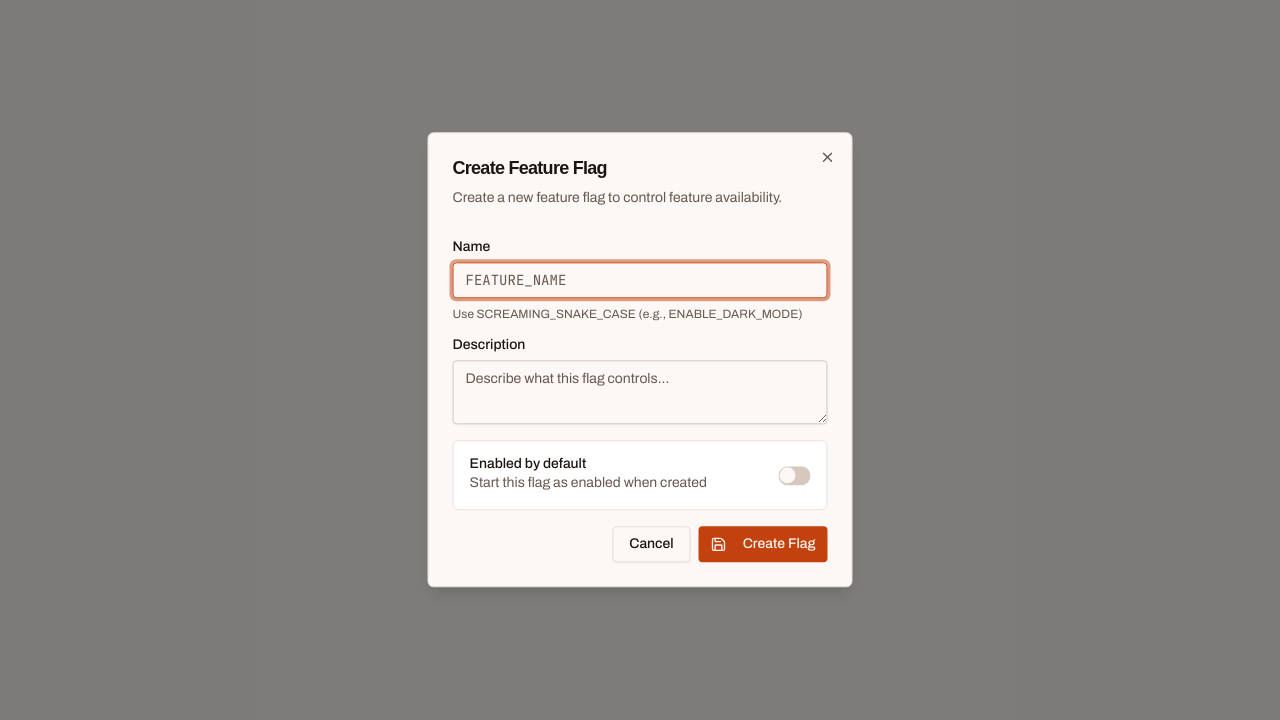
Test: components/admin/feature-flag-form › form submission - create mode › should display error message on creation failure
Type "DUPLICATE_FLAG" into the field labelled "Name". click: (640, 281)
box: top-left (452, 263), bottom-right (828, 299)
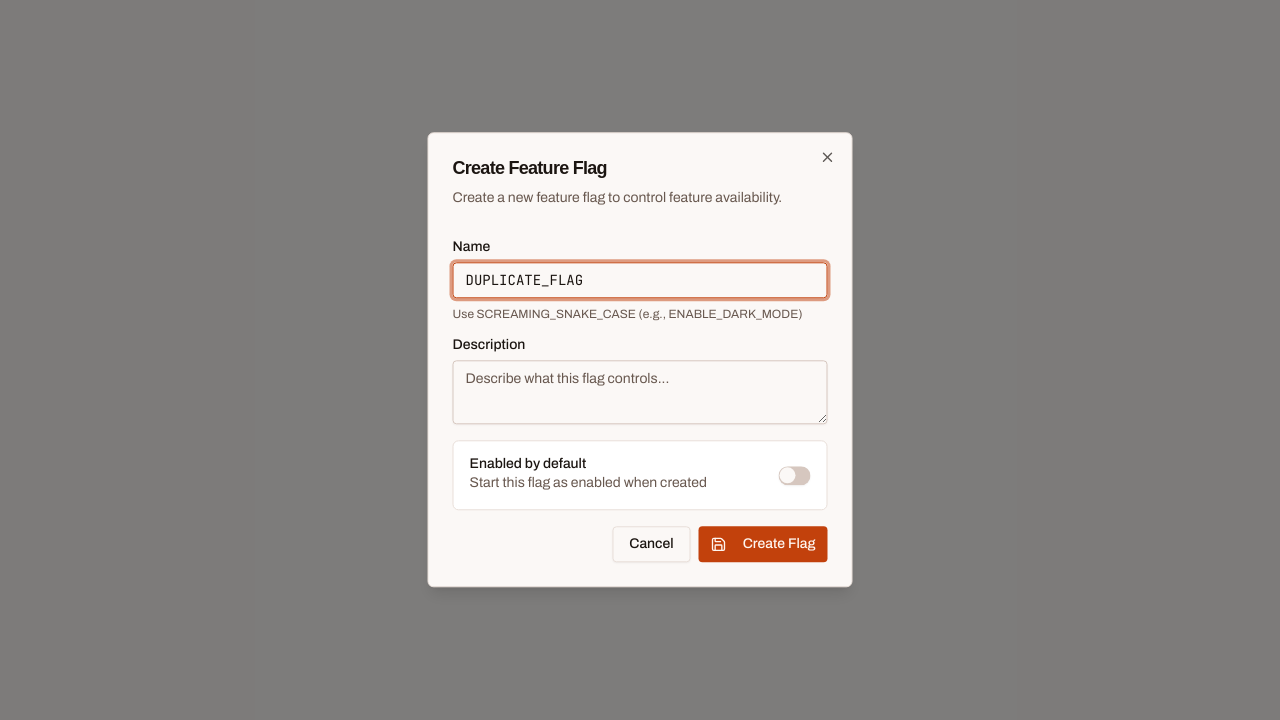
Click the button "Create Flag". click: (763, 545)
box: top-left (699, 527), bottom-right (828, 563)
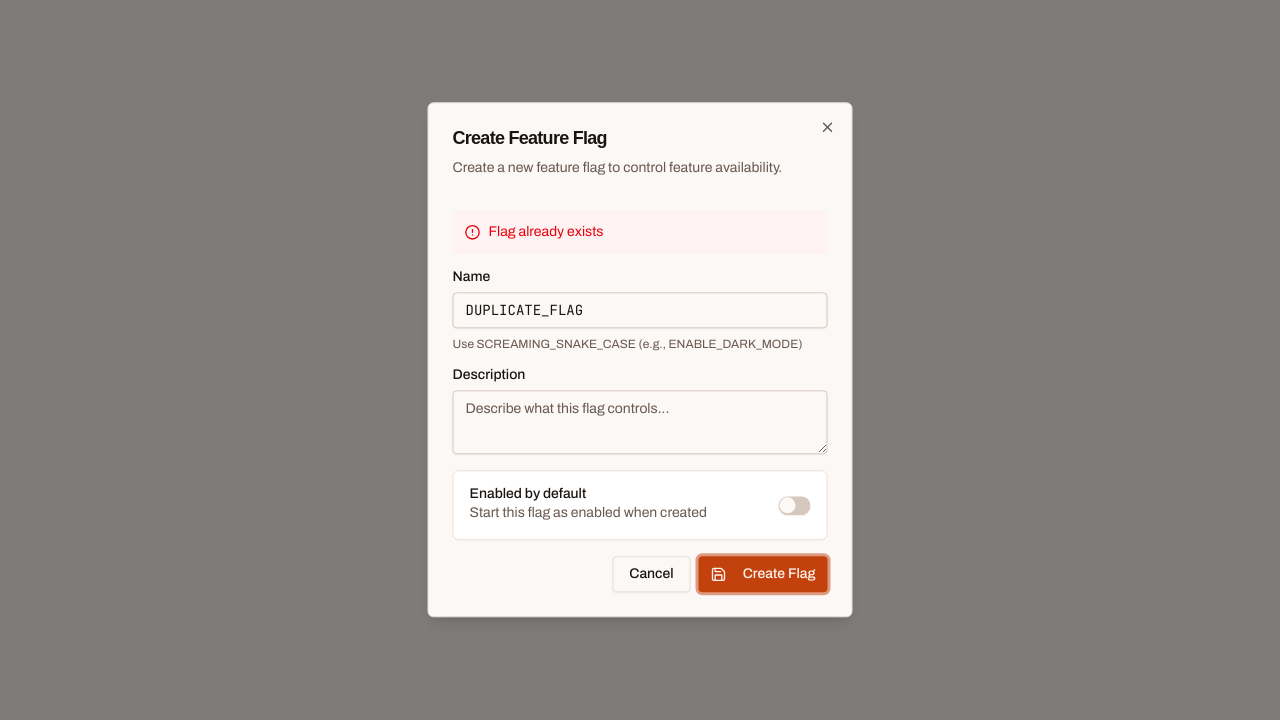
Expected: the text "Flag already exists" is shown, top-left (452, 211), bottom-right (828, 255)
